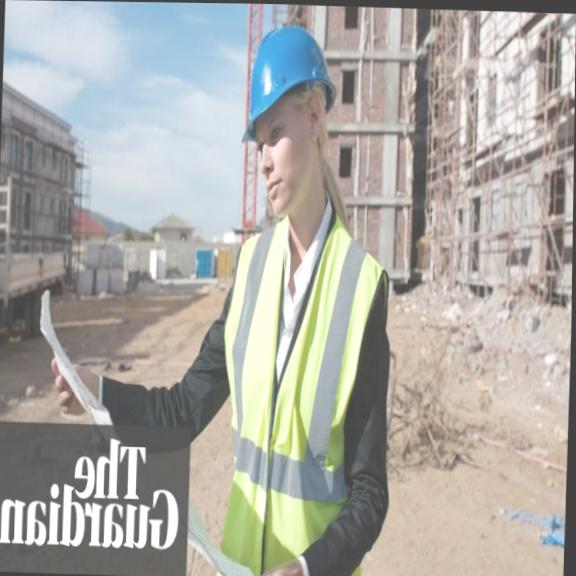safety_vest: (227, 209, 377, 576)
